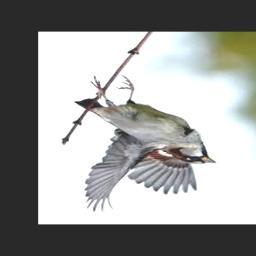Sparrow: (75, 76, 217, 213)
